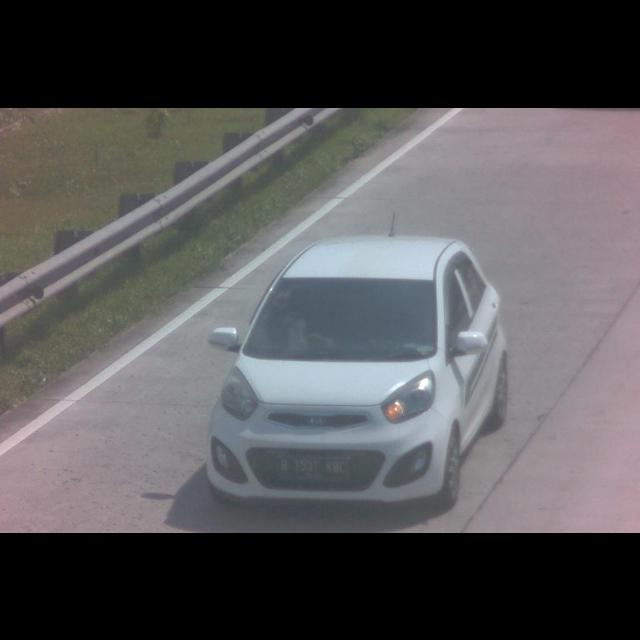plate: (277, 454, 349, 480)
